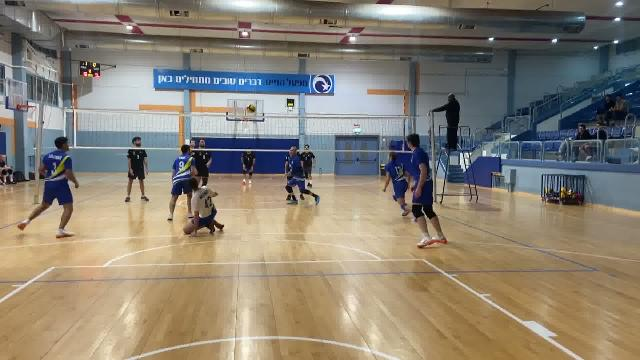ball: (244, 101, 260, 117)
